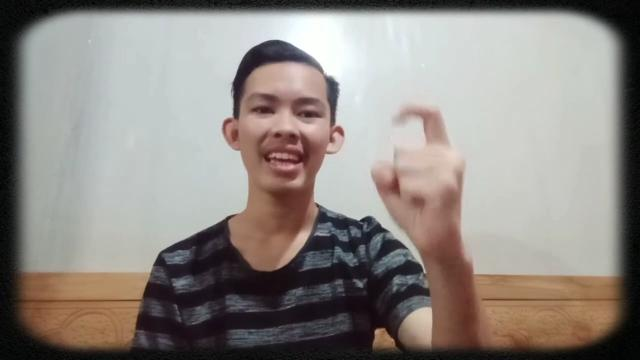X: (369, 96, 483, 268)
